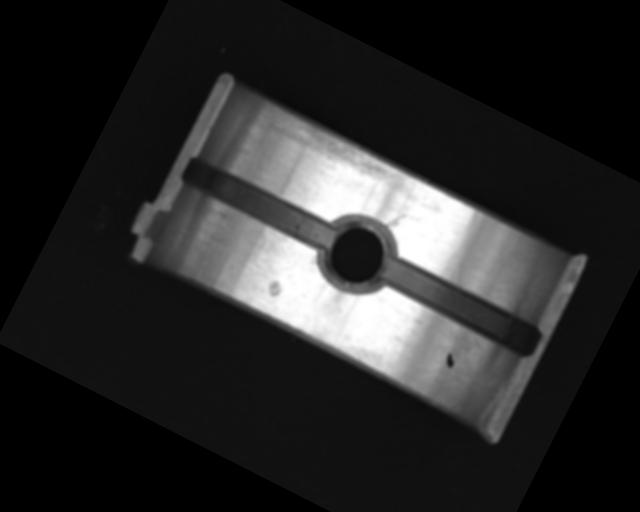blot: (441, 351, 459, 370)
bruise: (263, 277, 286, 300)
gap: (373, 250, 546, 361), (177, 152, 339, 256)
hole: (308, 204, 404, 303)
nick: (383, 207, 406, 233)
scratch: (257, 98, 404, 192)
